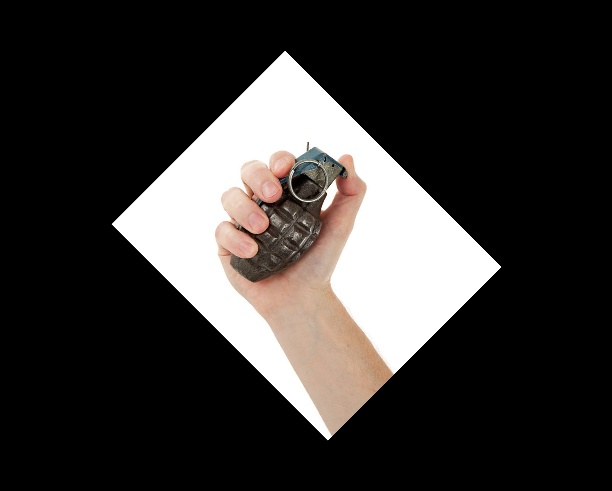e1: (225, 141, 348, 283)
